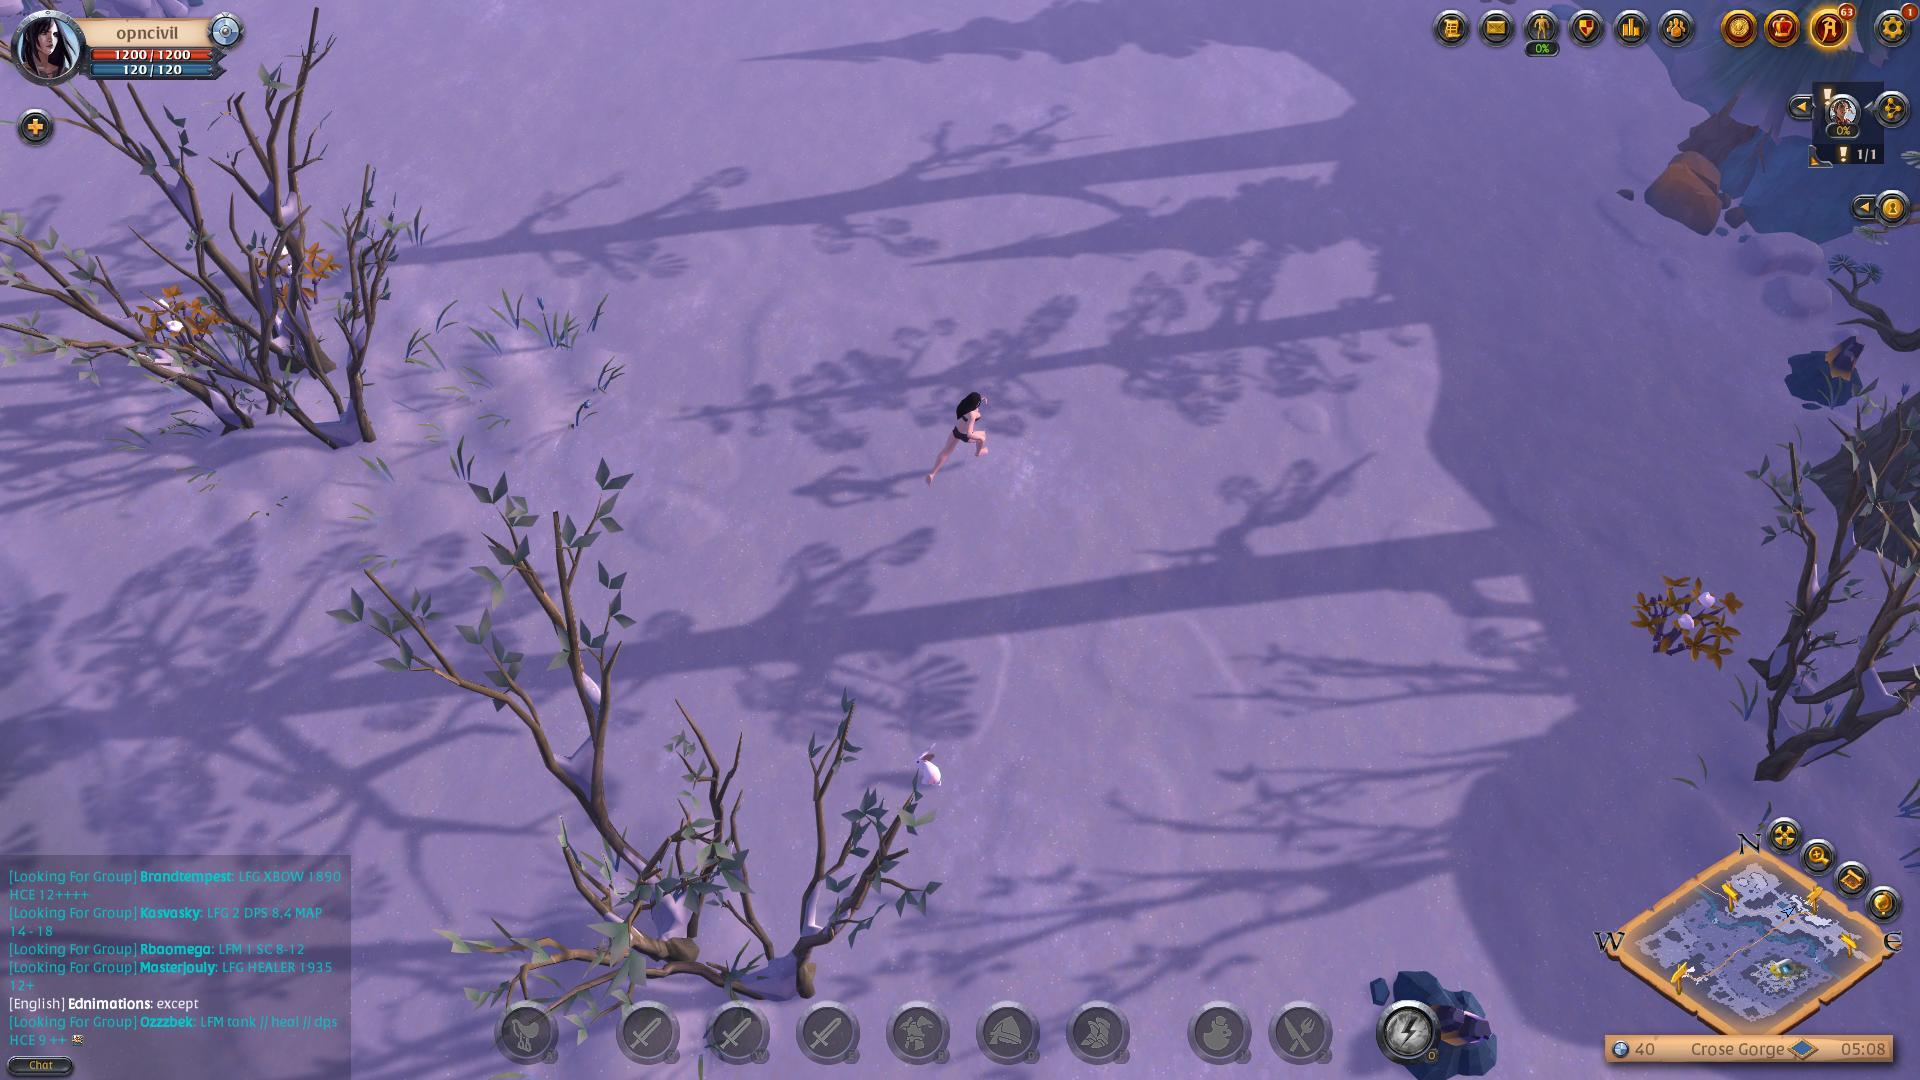copper_ore: (1365, 960, 1510, 1079), (1775, 323, 1879, 415)
cotton: (1623, 567, 1750, 676)
limestone: (1634, 140, 1742, 248)
